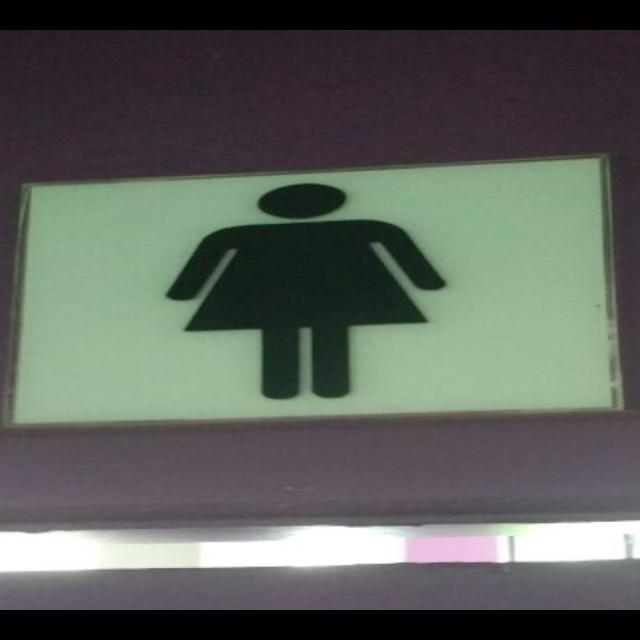wc nu: (13, 157, 618, 424)
